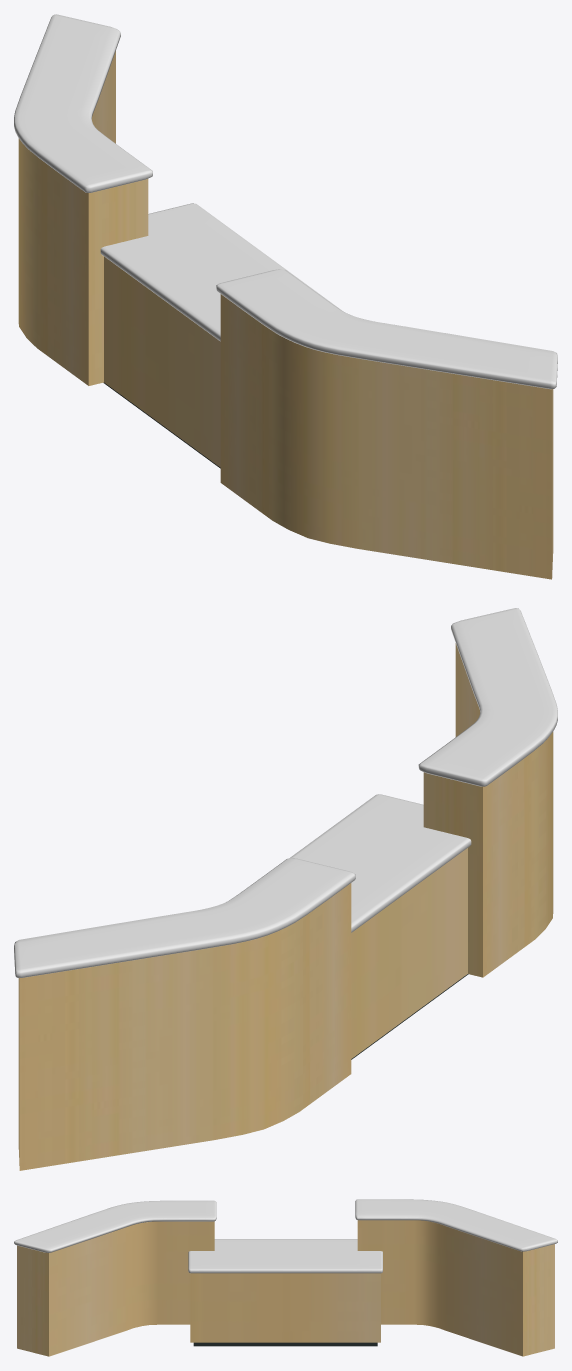
File: Lobby Desks.fbx
The picture shows the model from 3 angles, top to bottom: view 1: azimuth 30°, elevation 25°; view 2: azimuth 150°, elevation 25°; view 3: azimuth 270°, elevation 25°; orthographic projection. The views are drawn at different scales.
Parts seen in each view (by area): view 1: pCube73, pCube72, pCube69, pCube75, pCube74, pCube70; view 2: pCube72, pCube73, pCube69, pCube74, pCube75, pCube70; view 3: pCube72, pCube73, pCube69, pCube70, pCube74, pCube75, pCube71.
Part boxes in pixels (x1,y1,x2,y2): pCube73: [220, 294, 553, 579]; pCube72: [18, 51, 148, 385]; pCube69: [104, 256, 220, 467]; pCube75: [216, 269, 557, 389]; pCube74: [14, 14, 152, 192]; pCube70: [100, 203, 342, 341]; pCube72: [18, 883, 351, 1170]; pCube73: [423, 643, 553, 977]; pCube69: [351, 848, 467, 1058]; pCube74: [14, 858, 355, 977]; pCube75: [418, 608, 557, 786]; pCube70: [289, 794, 471, 932]; pCube72: [357, 1220, 554, 1356]; pCube73: [17, 1221, 214, 1356]; pCube69: [190, 1273, 380, 1342]; pCube70: [188, 1239, 382, 1273]; pCube74: [355, 1199, 557, 1251]; pCube75: [14, 1200, 216, 1252]; pCube71: [193, 1342, 377, 1346].
Bounding box in the file's own units: 4.6 × 5.05 × 21.36.
3 materials, 1 textured.
